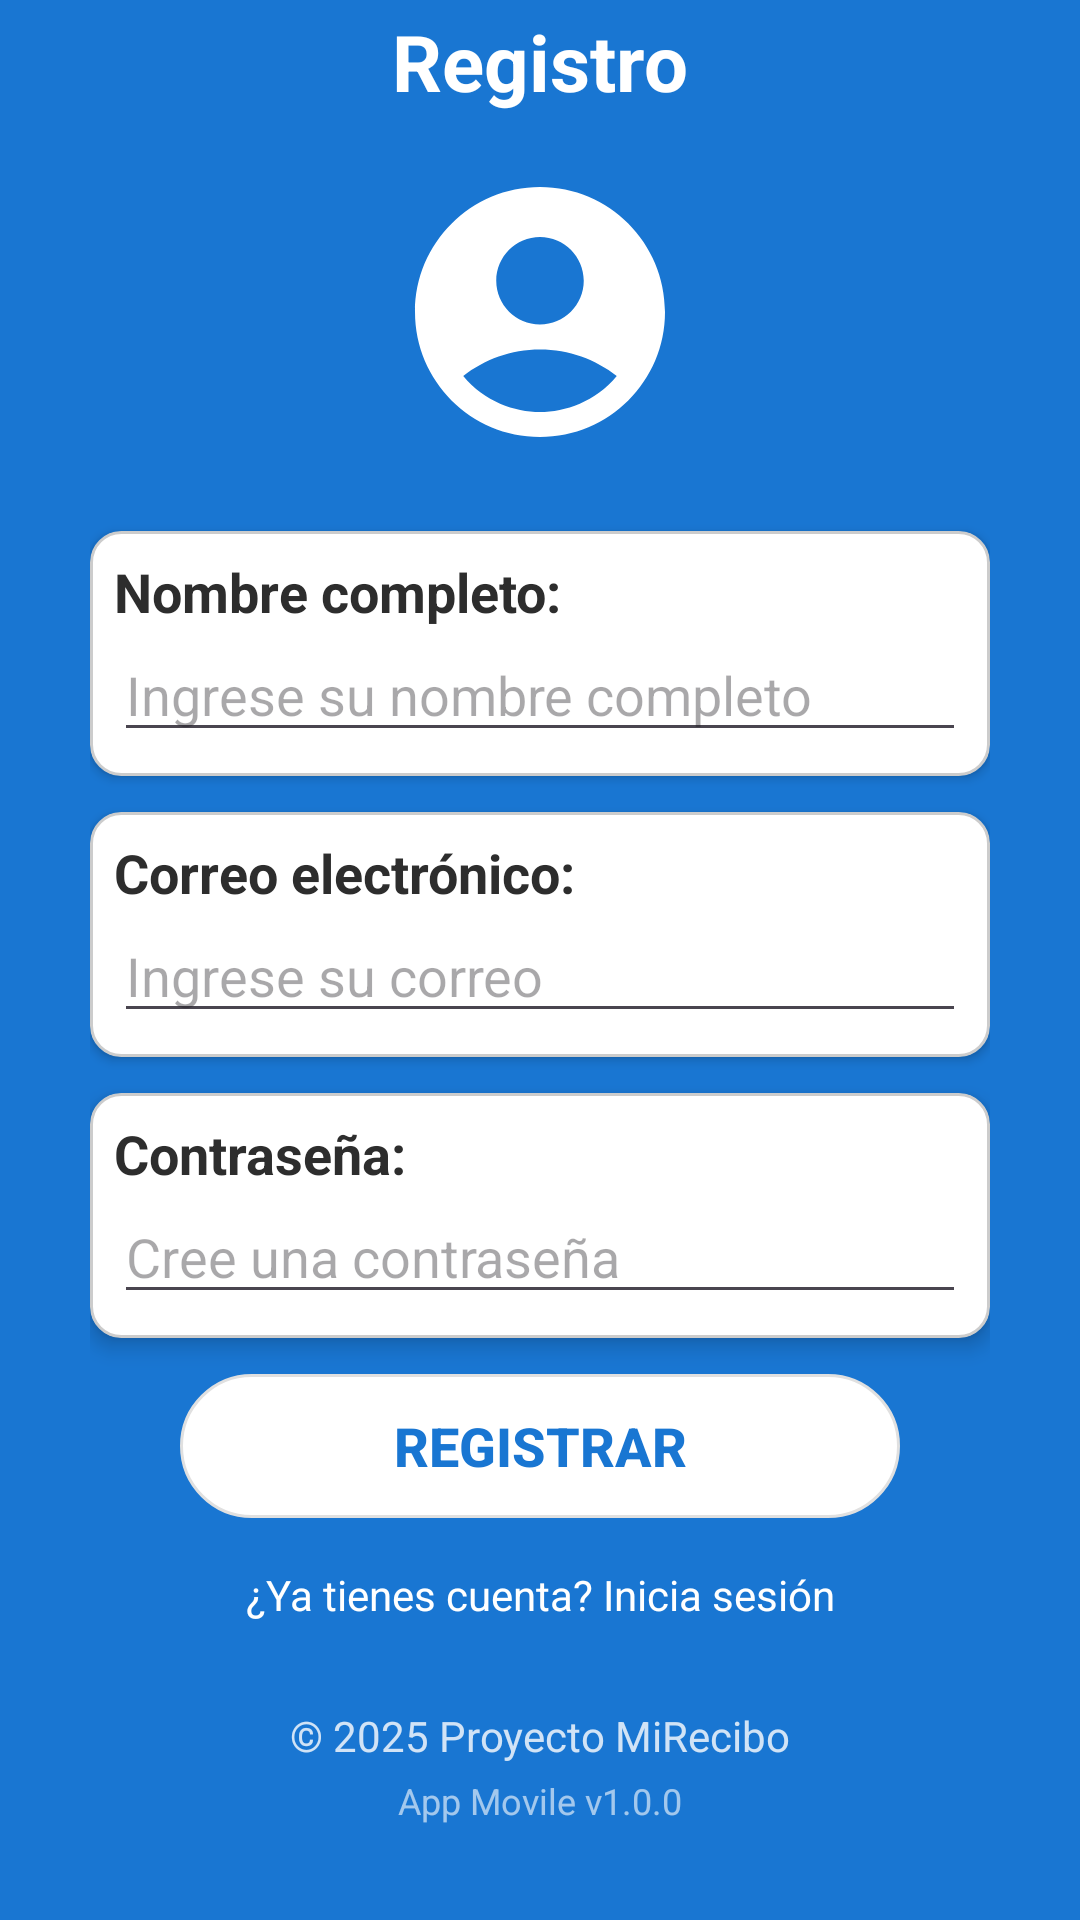

Screen size 1080px×1920px. Icon name, then its box in pixels as (x1, y1, x2, y2):
login user: (415, 187, 665, 437)
